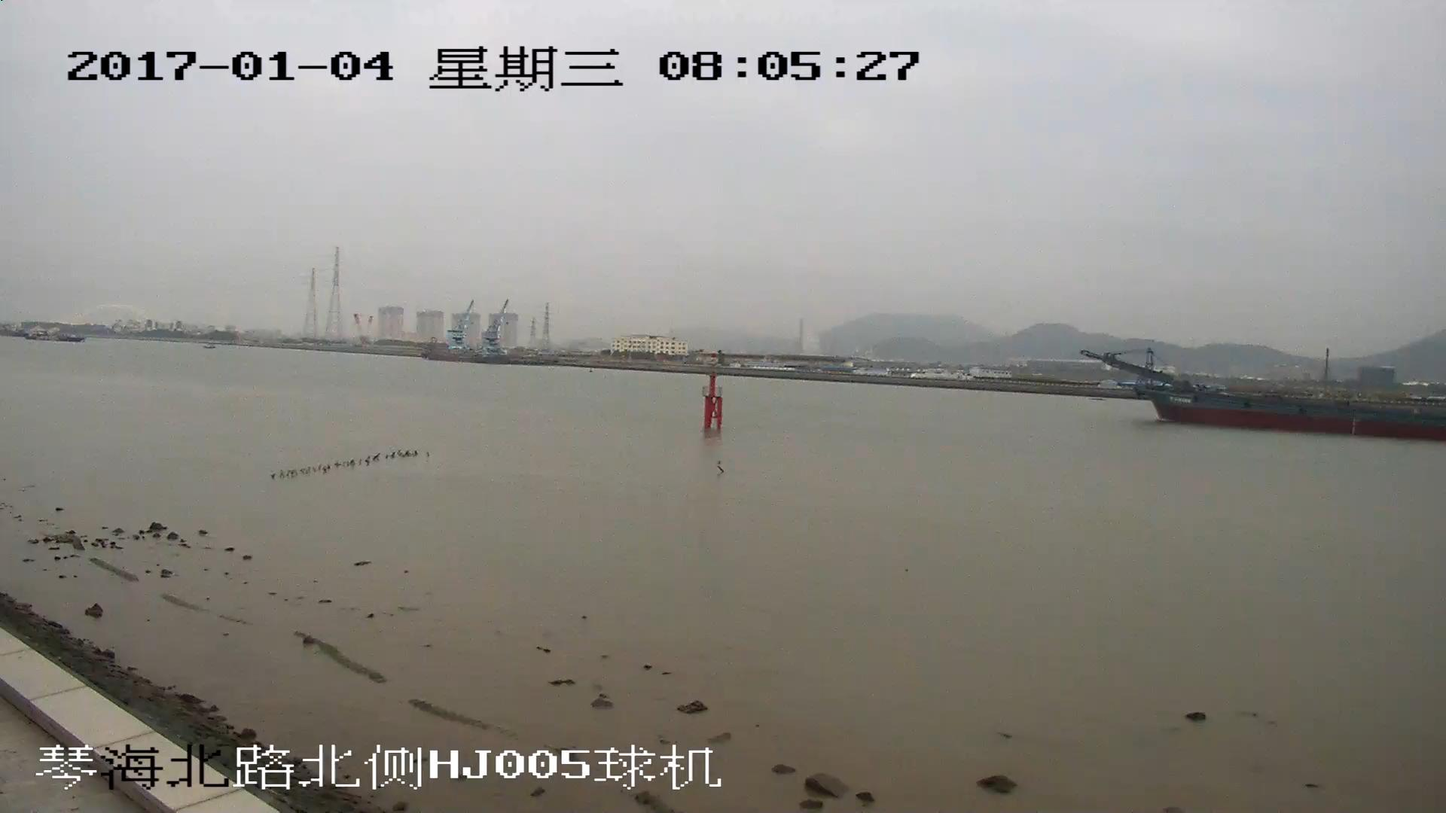bulk cargo carrier: (1083, 349, 1445, 443)
